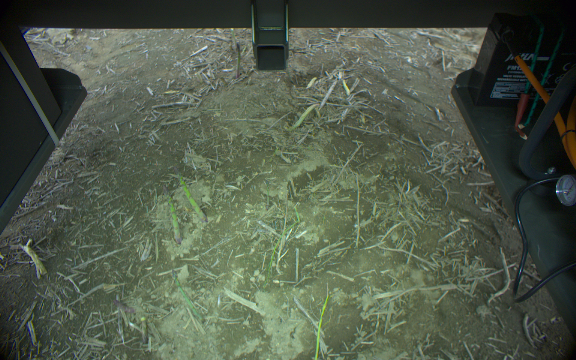aspa: (174, 166, 206, 222), (170, 269, 203, 322), (160, 185, 182, 243), (232, 40, 241, 80)
